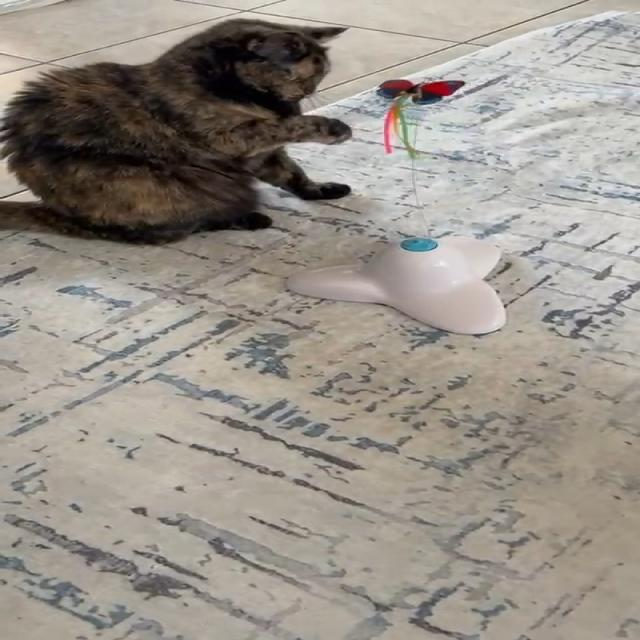authorized: (0, 17, 353, 245)
